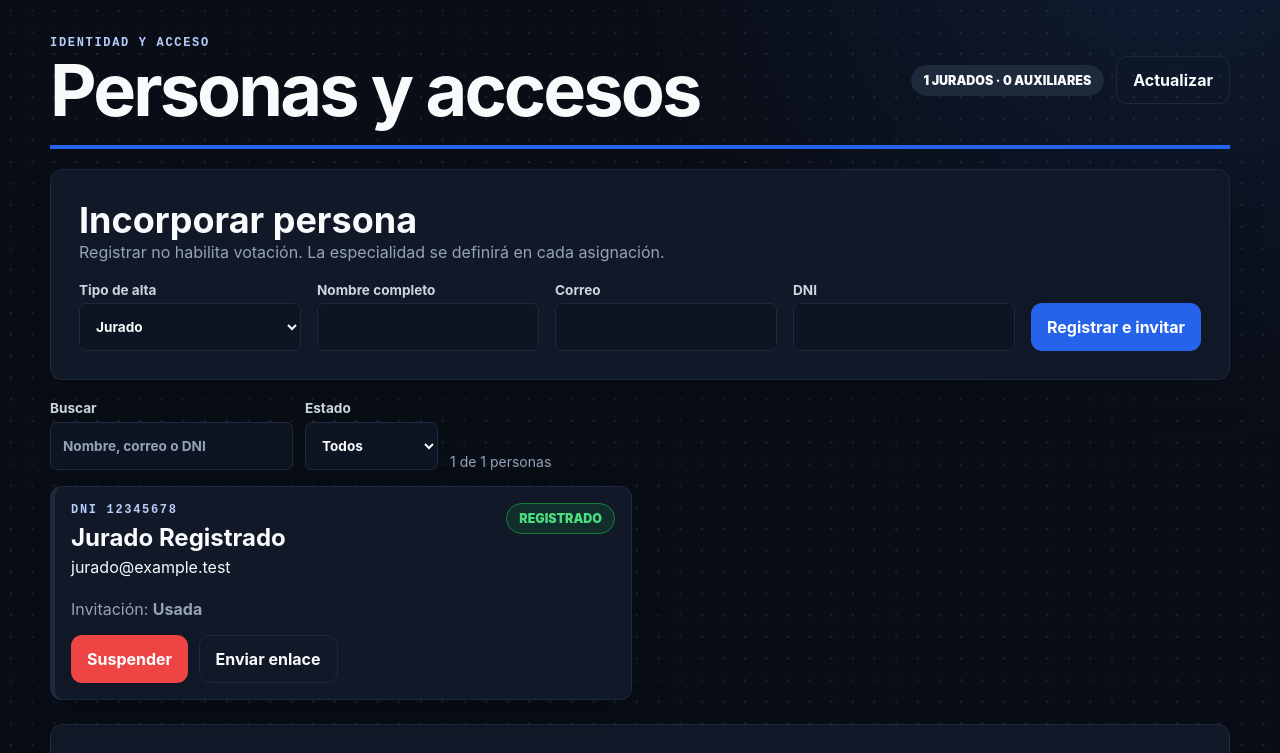
Test case: AdminJudgesPage › suspende con confirmación y refresca el estado
Click the button with aria-label "Suspender a Jurado Registrado": point(130, 659) [71, 635, 188, 683]
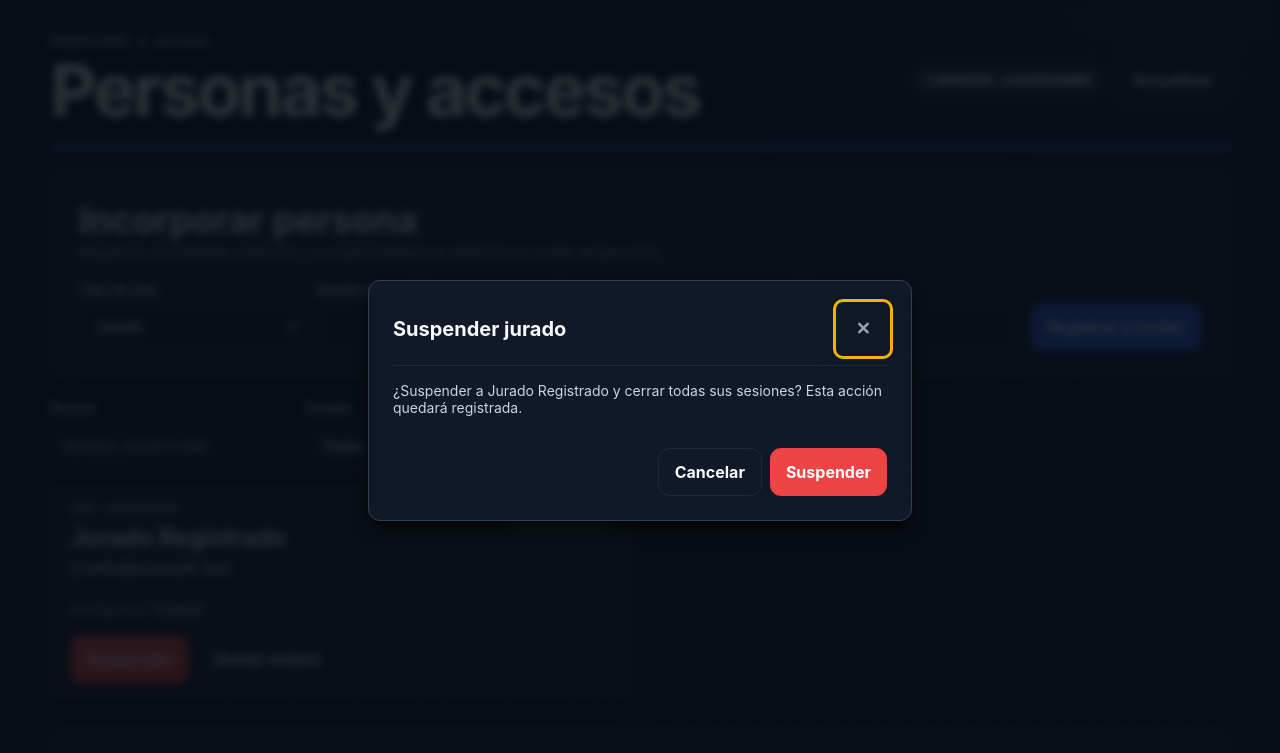
Check: the text "cerrar todas sus sesiones" is shown, box [393, 382, 882, 416]
Click the button "Suspender": point(828, 472) [770, 448, 887, 496]
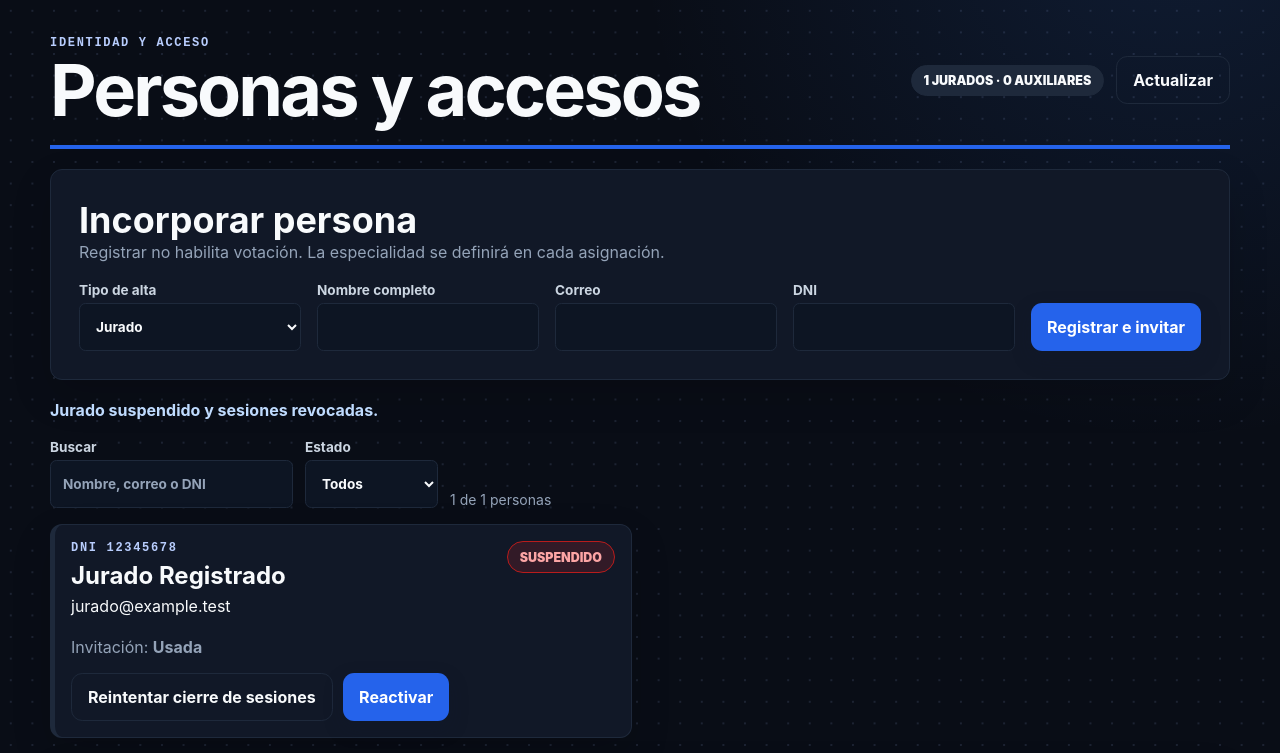
Check: the text "Suspendido" is shown, box [507, 541, 615, 573]
